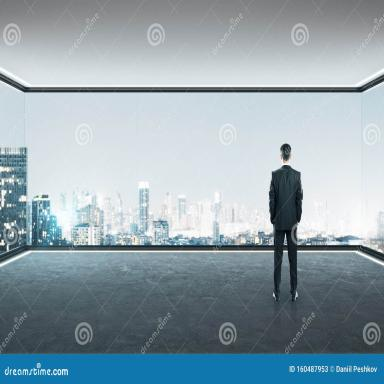glass_panel: (24, 93, 137, 248), (138, 94, 248, 245), (0, 84, 26, 252), (363, 86, 384, 252), (0, 147, 26, 252)
